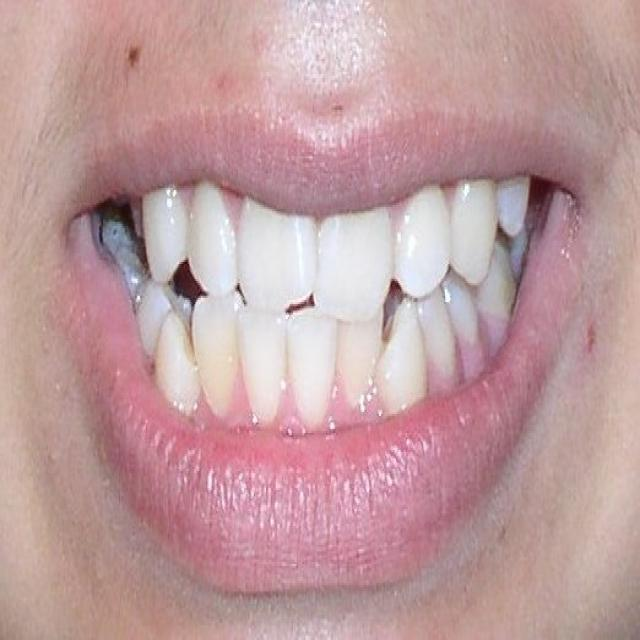tooth: (236, 205, 318, 310), (319, 218, 391, 323), (185, 188, 243, 300), (395, 190, 452, 298), (191, 294, 238, 418), (374, 310, 432, 408), (239, 313, 287, 420), (290, 315, 338, 420), (451, 184, 500, 283), (101, 201, 147, 302), (142, 195, 189, 288), (156, 321, 202, 414), (336, 315, 380, 412), (446, 279, 481, 374), (422, 296, 457, 388), (481, 251, 511, 338), (134, 285, 168, 347), (495, 180, 525, 245), (505, 222, 527, 266)
